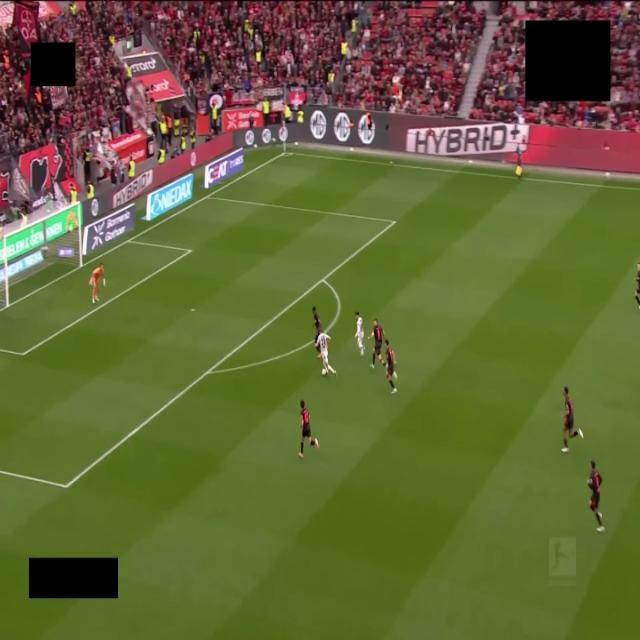ball: (322, 368, 327, 375)
player: (562, 387, 583, 453), (587, 461, 604, 532), (299, 400, 318, 457), (316, 333, 336, 375), (370, 319, 384, 368), (89, 264, 105, 303), (385, 340, 396, 393), (312, 306, 322, 359), (355, 312, 364, 356), (635, 264, 639, 308)
